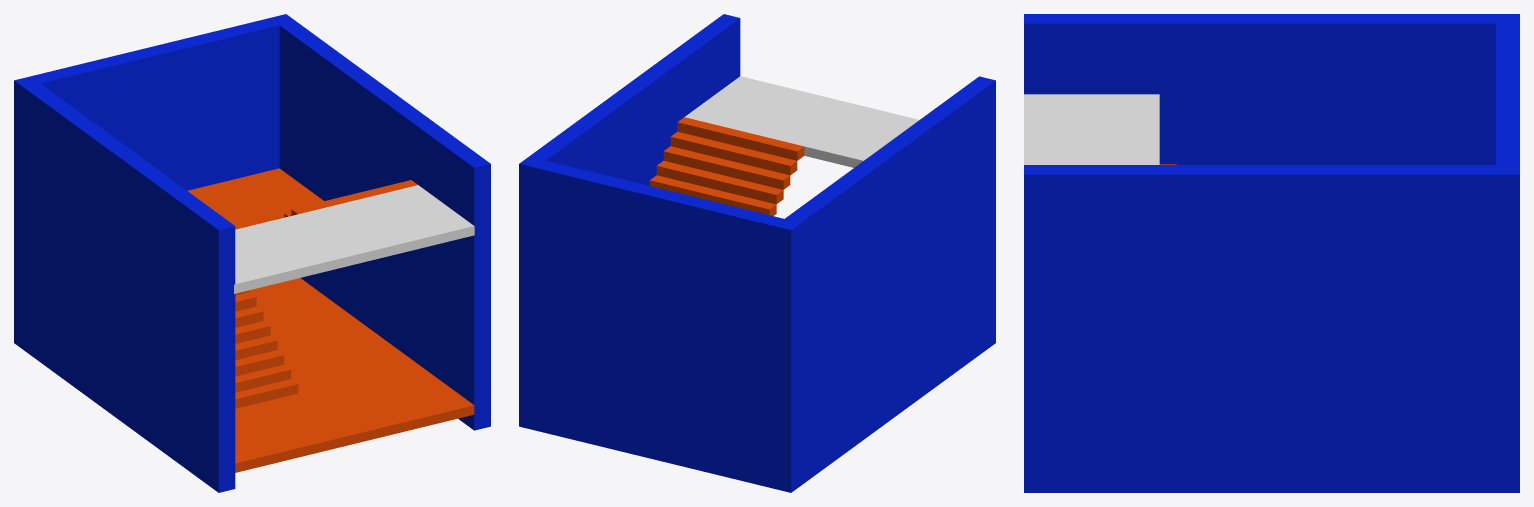
The model's file is Stairs.fbx.
The picture shows the model from 3 angles, left to right: view 1: azimuth 30°, elevation 25°; view 2: azimuth 150°, elevation 25°; view 3: azimuth 270°, elevation 25°; orthographic projection. The views are drawn at different scales.
Parts seen in each view (by area): view 1: Walls, Cube, Cube.004, Cube.001, Cube.003, Cube.002; view 2: Walls, Cube.004, Cube.002; view 3: Walls, Cube.004.
Part boxes in pixels (<box>): Walls: <box>14,14,490,492</box>; Cube: <box>235,278,474,472</box>; Cube.004: <box>234,185,474,293</box>; Cube.001: <box>235,290,298,408</box>; Cube.003: <box>187,168,323,229</box>; Cube.002: <box>277,180,417,218</box>; Walls: <box>519,14,995,492</box>; Cube.004: <box>684,76,918,167</box>; Cube.002: <box>649,117,804,216</box>; Walls: <box>1024,14,1519,492</box>; Cube.004: <box>1024,94,1159,164</box>.
Bounding box in the file's own units: 905 × 836 × 1180.
